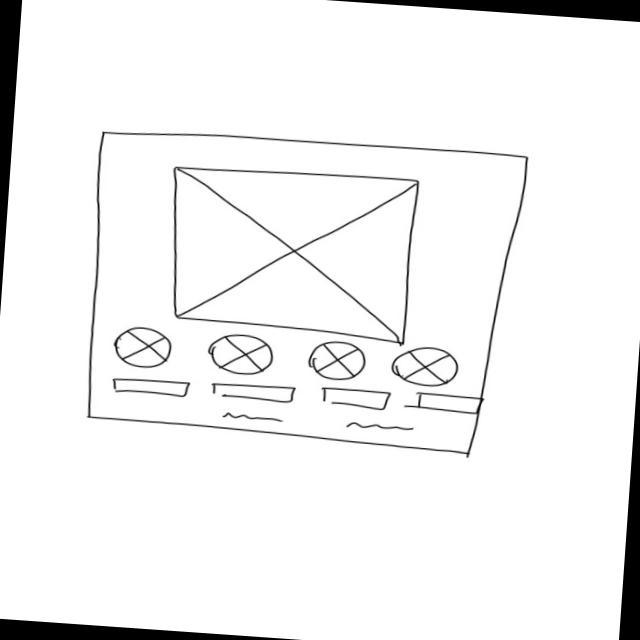container: (77, 124, 531, 459)
image: (163, 162, 421, 344), (207, 332, 276, 378), (391, 345, 461, 390), (113, 325, 175, 371), (308, 339, 370, 383)
input: (208, 380, 299, 404), (321, 386, 395, 413), (112, 376, 193, 400), (411, 392, 485, 416)
text: (342, 421, 418, 434), (221, 411, 288, 425)
